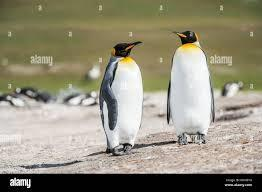king: (92, 34, 157, 160), (159, 27, 225, 149)
